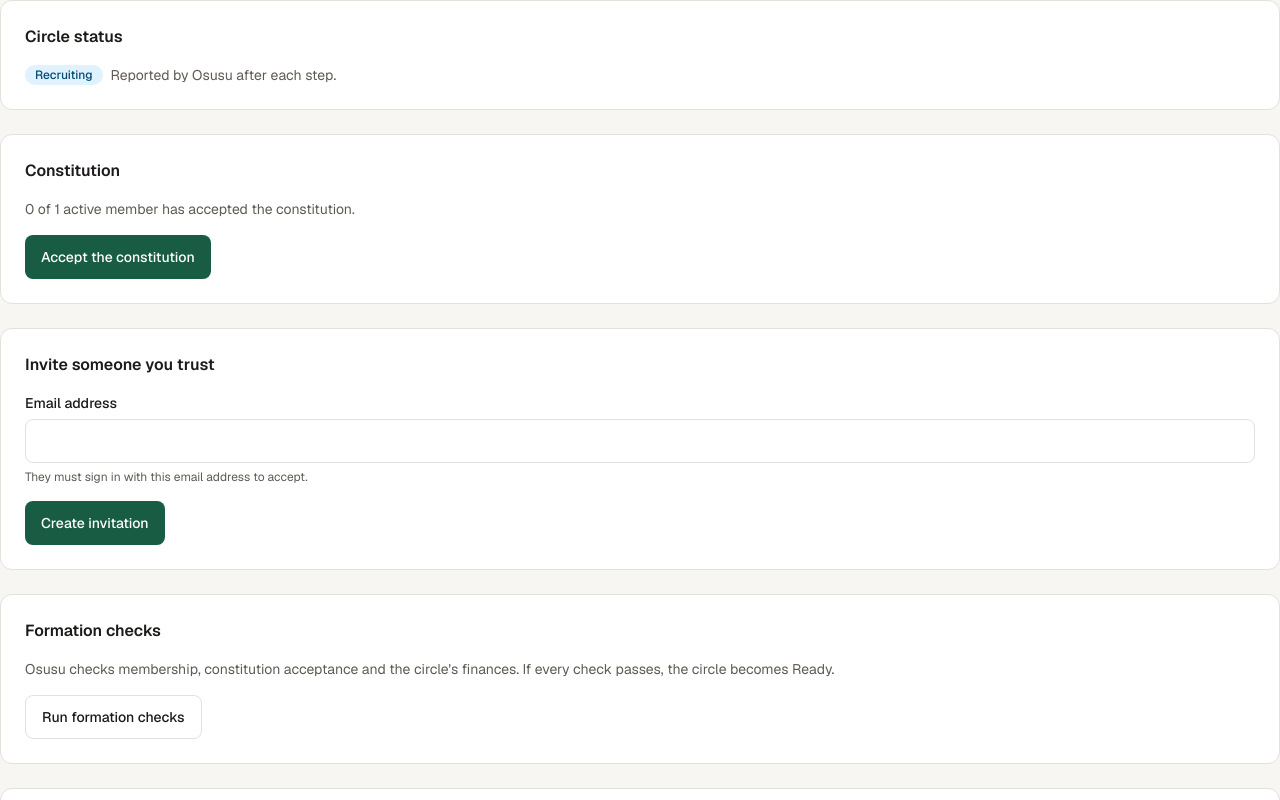
Test: circle set-up workflow › shows invitation errors from the backend and needs an email first
The image size is (1280, 800).
Click the button "Create invitation" at (95, 523), box [25,501,165,545]
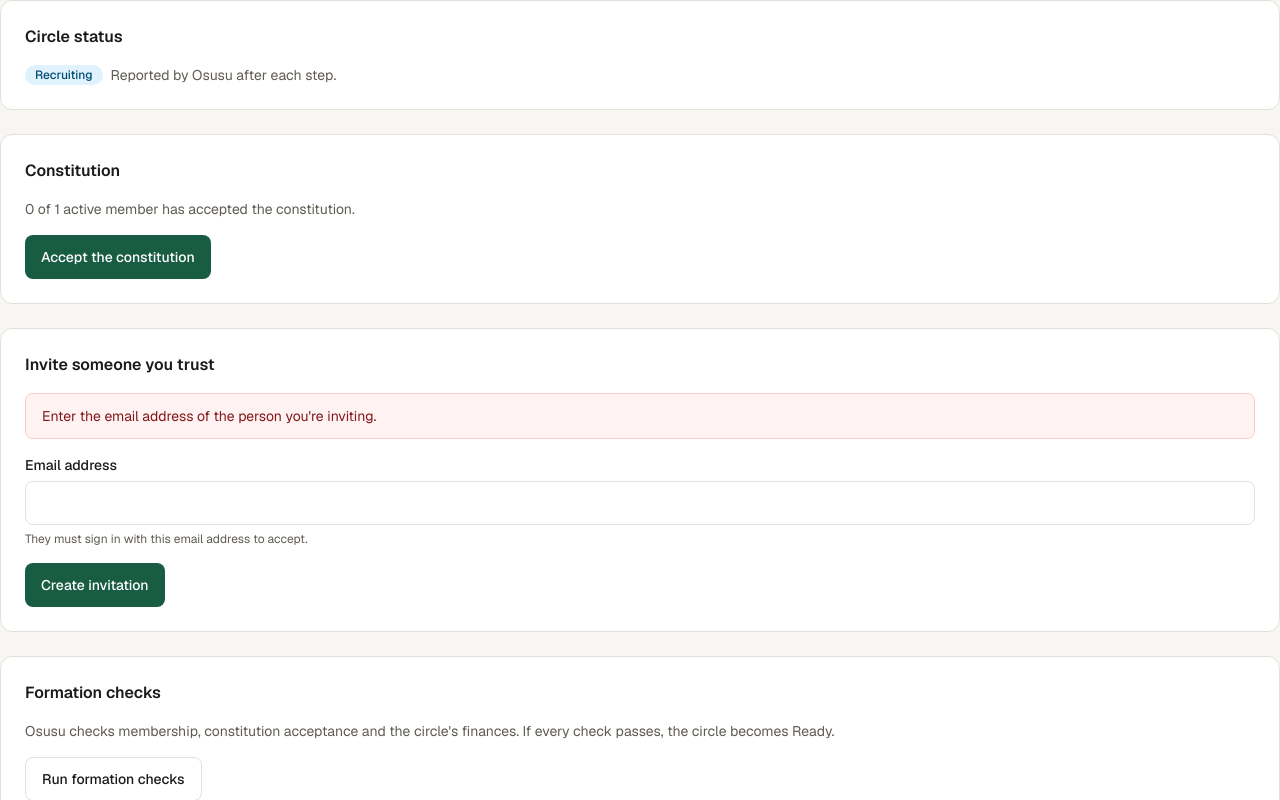
Now the text "Enter the email address of the person you're inviting." is shown, box [42,407,376,425]
Type "x@example.com" into the field labelled "Email address" at (640, 503), box [25,481,1255,525]
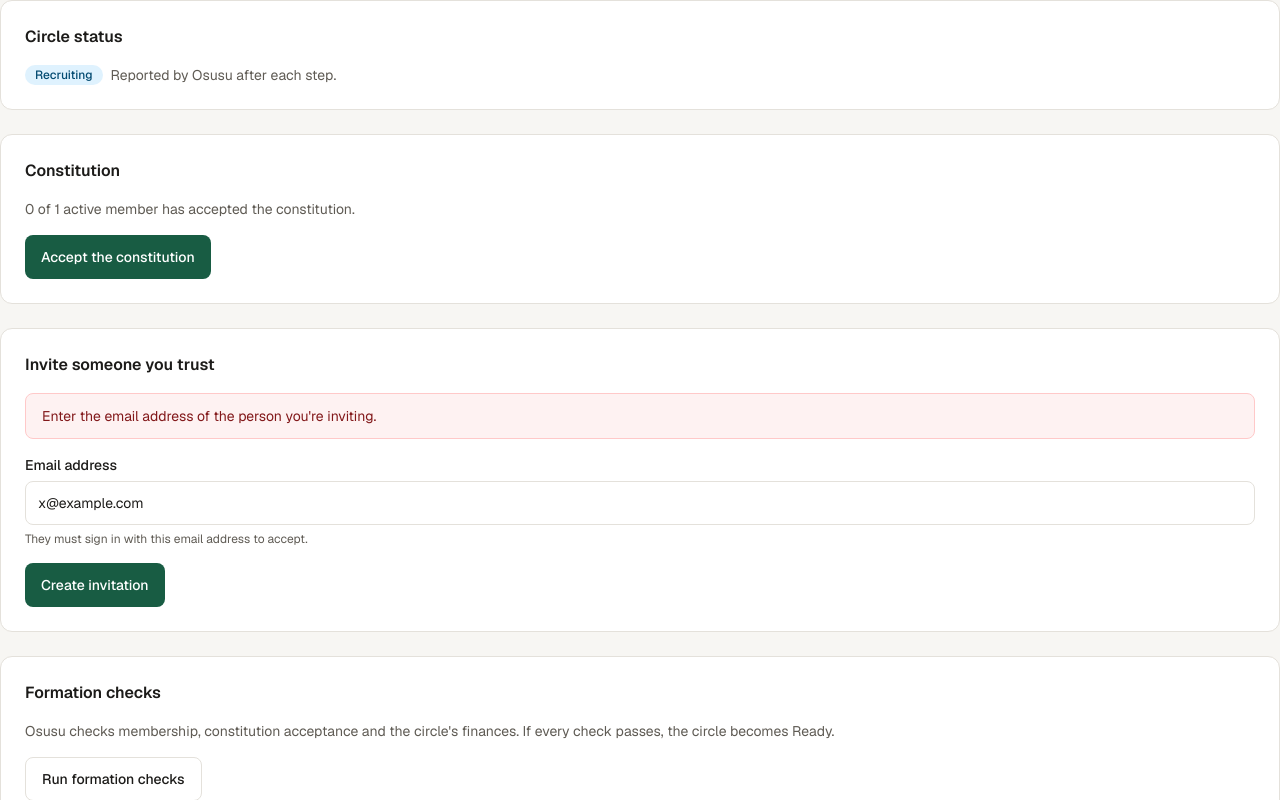
Click the button "Create invitation" at (95, 585), box [25,563,165,607]
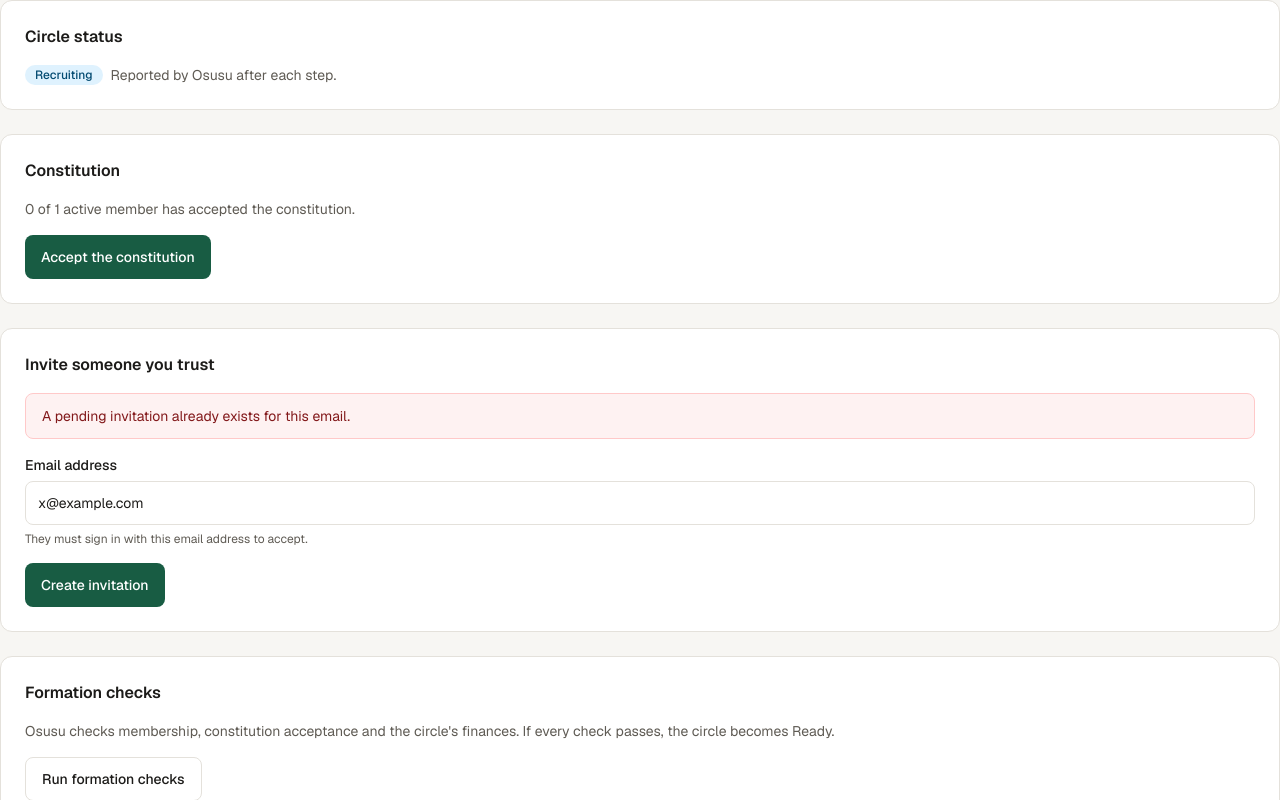
Now the text "A pending invitation already exists for this email." is shown, box [42,407,350,425]
